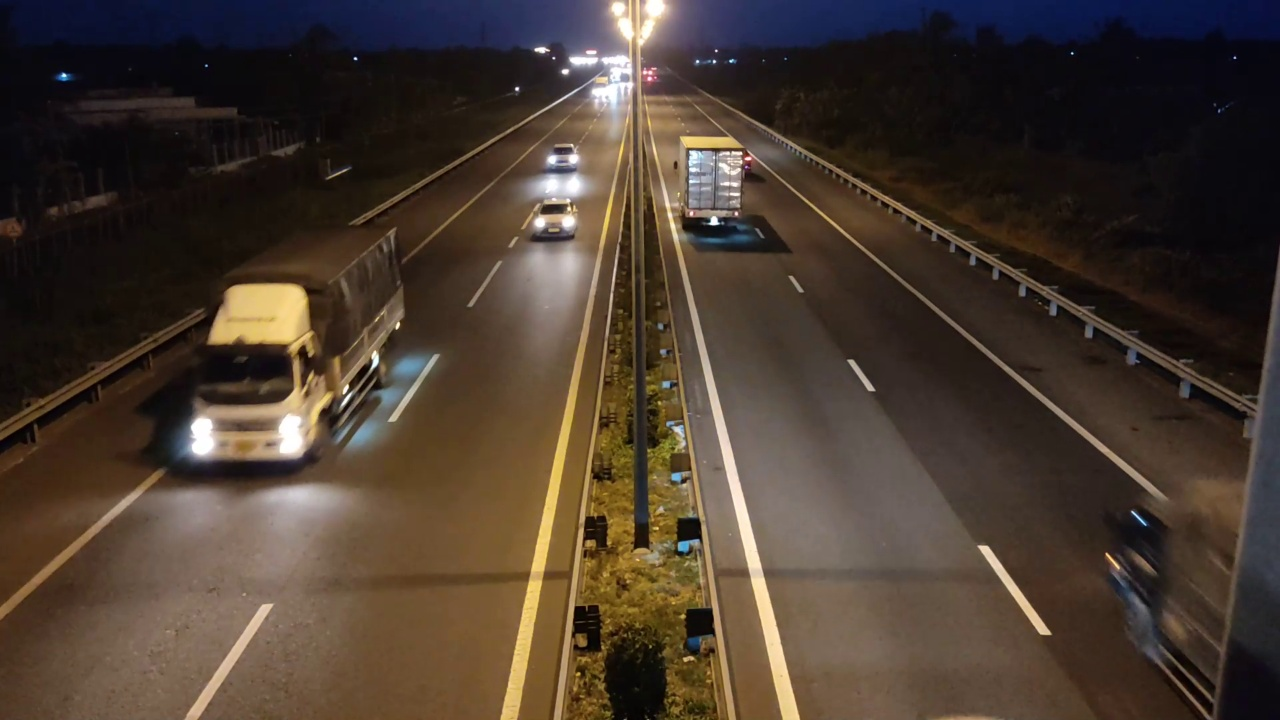car: (527, 199, 579, 240), (544, 143, 580, 173)
truck: (163, 220, 406, 474), (678, 135, 746, 231)
